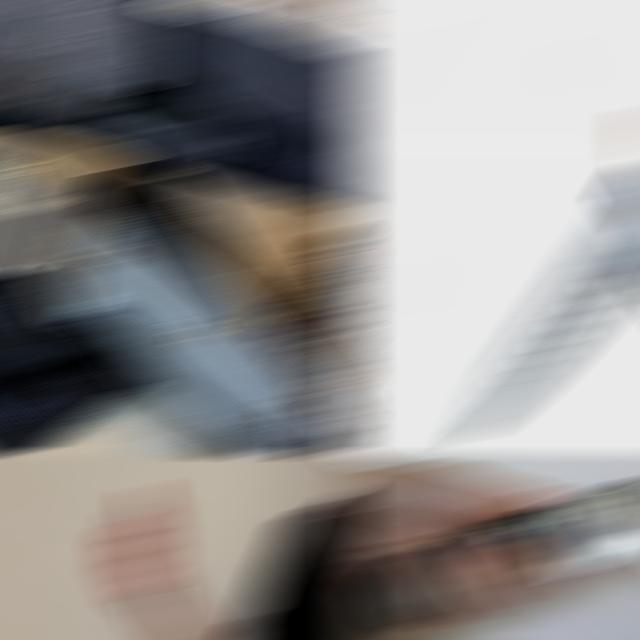Knife: (459, 172, 640, 440), (467, 479, 640, 577)
Knife_Handle: (439, 2, 640, 452), (341, 456, 640, 635), (103, 486, 206, 638)
